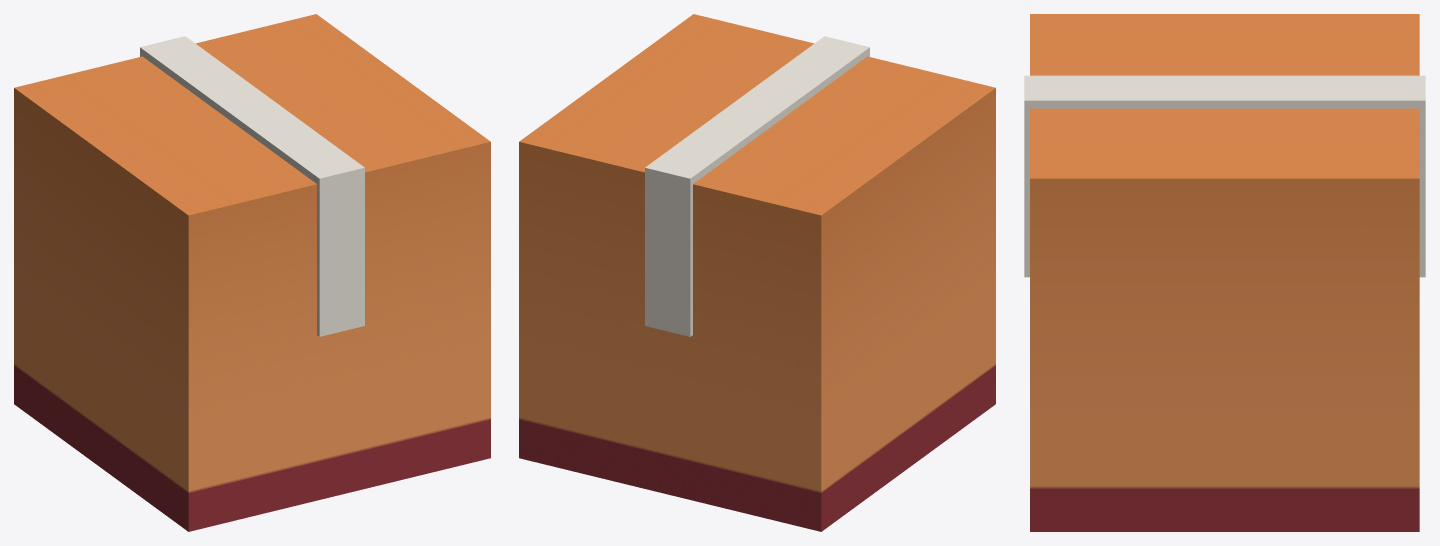
Rendered from Prop_Box01.fbx.
3 renders of one model, left to right at view 1: azimuth 30°, elevation 25°; view 2: azimuth 150°, elevation 25°; view 3: azimuth 270°, elevation 25°, orthographic. The views are drawn at different scales.
Parts seen in each view (by area): view 1: Prop_Box; view 2: Prop_Box; view 3: Prop_Box.
Boxes of the visible parts, <box> form: Prop_Box: <box>14,14,490,531</box>; Prop_Box: <box>519,14,995,531</box>; Prop_Box: <box>1024,14,1425,531</box>.
Bounding box in the file's own units: 200 × 205 × 206.
